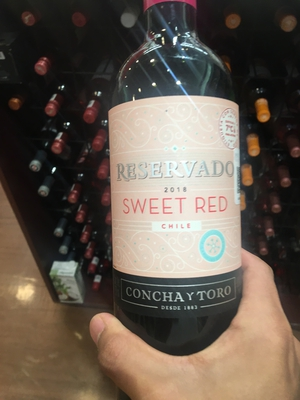reservado sweet red: (101, 6, 261, 373)
